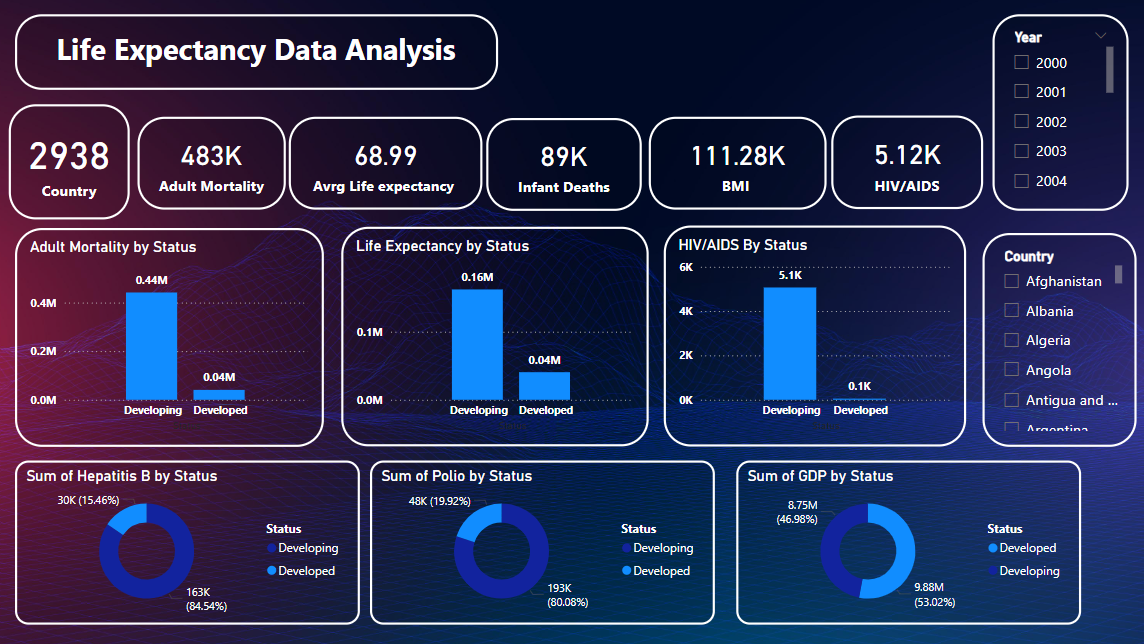

The dashboard page shown, as its layout file describes it:
{"tool":"powerbi","page":{"name":"Page 1","canvas":[1280,720],"ordinal":0},"visuals":[{"type":"textbox","box":[22,17.8,536.5,83.7],"z":0},{"type":"slicer","fields":{"Values":["Life Expectancy Data.Year"]},"box":[1108.8,17.8,150.9,218.2],"z":1000},{"type":"card","fields":{"Values":["Sum(Life Expectancy Data.Adult Mortality)"]},"box":[157.8,131.7,164.7,102.9],"z":2000},{"type":"card","fields":{"Values":["Avg(Life Expectancy Data.Life expectancy )"]},"box":[326.6,131.7,215.4,102.9],"z":3000},{"type":"card","fields":{"Values":["Sum(Life Expectancy Data.infant deaths)"]},"box":[546.1,133.1,172.9,102.9],"z":4000},{"type":"card","fields":{"Values":["Sum(Life Expectancy Data. BMI )"]},"box":[725.9,131.7,197.6,102.9],"z":5000},{"type":"card","fields":{"Values":["Sum(Life Expectancy Data. HIV/AIDS)"]},"box":[929,130.4,168.8,104.3],"z":6000},{"type":"card","fields":{"Values":["CountNonNull(Life Expectancy Data.Country)"]},"box":[15.1,118,134.5,127.6],"z":7000},{"type":"columnChart","title":"Adult Mortality by Status","fields":{"Y":["Sum(Life Expectancy Data.Adult Mortality)"],"Category":["Life Expectancy Data.Status"]},"box":[22,255.2,343.1,242.9],"z":8000},{"type":"columnChart","title":"Life Expectancy by Status","fields":{"Y":["Sum(Life Expectancy Data.Life expectancy )"],"Category":["Life Expectancy Data.Status"]},"box":[384.2,253.9,341.7,244.3],"z":9000},{"type":"columnChart","title":"HIV/AIDS By Status","fields":{"Category":["Life Expectancy Data.Status"],"Y":["Sum(Life Expectancy Data. HIV/AIDS)"]},"box":[742.4,252.5,336.2,245.6],"z":10000},{"type":"slicer","fields":{"Values":["Life Expectancy Data.Country"]},"box":[1097.8,260.7,171.5,237.4],"z":11000},{"type":"donutChart","fields":{"Category":["Life Expectancy Data.Status"],"Y":["Sum(Life Expectancy Data.Hepatitis B)"]},"box":[22,514.6,382.8,182.5],"z":11001},{"type":"donutChart","fields":{"Category":["Life Expectancy Data.Status"],"Y":["Sum(Life Expectancy Data.Polio)"]},"box":[417.2,514.6,382.8,182.5],"z":11002},{"type":"donutChart","fields":{"Category":["Life Expectancy Data.Status"],"Y":["Sum(Life Expectancy Data.GDP)"]},"box":[823.3,514.6,382.8,182.5],"z":11003}]}

Visuals, with their boxes in screenshot pixels (x1, y1, x2, y2), scaled from the page's 1280x720 canvas onto the 1144x644 screenshot:
textbox: bbox=(20, 16, 499, 91)
slicer - Life Expectancy Data.Year: bbox=(991, 16, 1126, 211)
card - Sum(Life Expectancy Data.Adult Mortality): bbox=(141, 118, 288, 210)
card - Avg(Life Expectancy Data.Life expectancy ): bbox=(292, 118, 484, 210)
card - Sum(Life Expectancy Data.infant deaths): bbox=(488, 119, 643, 211)
card - Sum(Life Expectancy Data. BMI ): bbox=(649, 118, 825, 210)
card - Sum(Life Expectancy Data. HIV/AIDS): bbox=(830, 117, 981, 210)
card - CountNonNull(Life Expectancy Data.Country): bbox=(13, 106, 134, 220)
"Adult Mortality by Status" columnChart: bbox=(20, 228, 326, 446)
"Life Expectancy by Status" columnChart: bbox=(343, 227, 649, 446)
"HIV/AIDS By Status" columnChart: bbox=(664, 226, 964, 446)
slicer - Life Expectancy Data.Country: bbox=(981, 233, 1134, 446)
donutChart - Life Expectancy Data.Status x Sum(Life Expectancy Data.Hepatitis B): bbox=(20, 460, 362, 624)
donutChart - Life Expectancy Data.Status x Sum(Life Expectancy Data.Polio): bbox=(373, 460, 715, 624)
donutChart - Life Expectancy Data.Status x Sum(Life Expectancy Data.GDP): bbox=(736, 460, 1078, 624)
